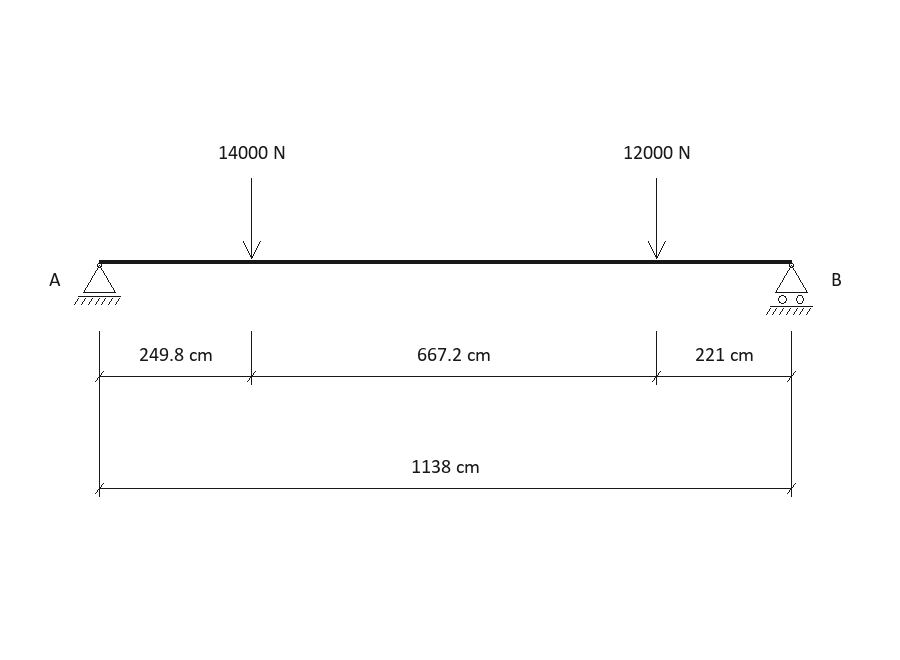pin_support: (74, 263, 121, 305)
point_load: (243, 178, 261, 259), (648, 178, 666, 259)
roller_support: (766, 263, 813, 315)
